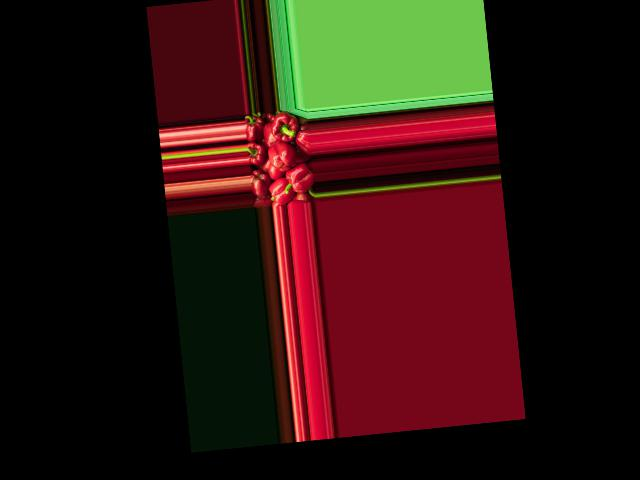bell_pepper: (244, 113, 265, 141)
